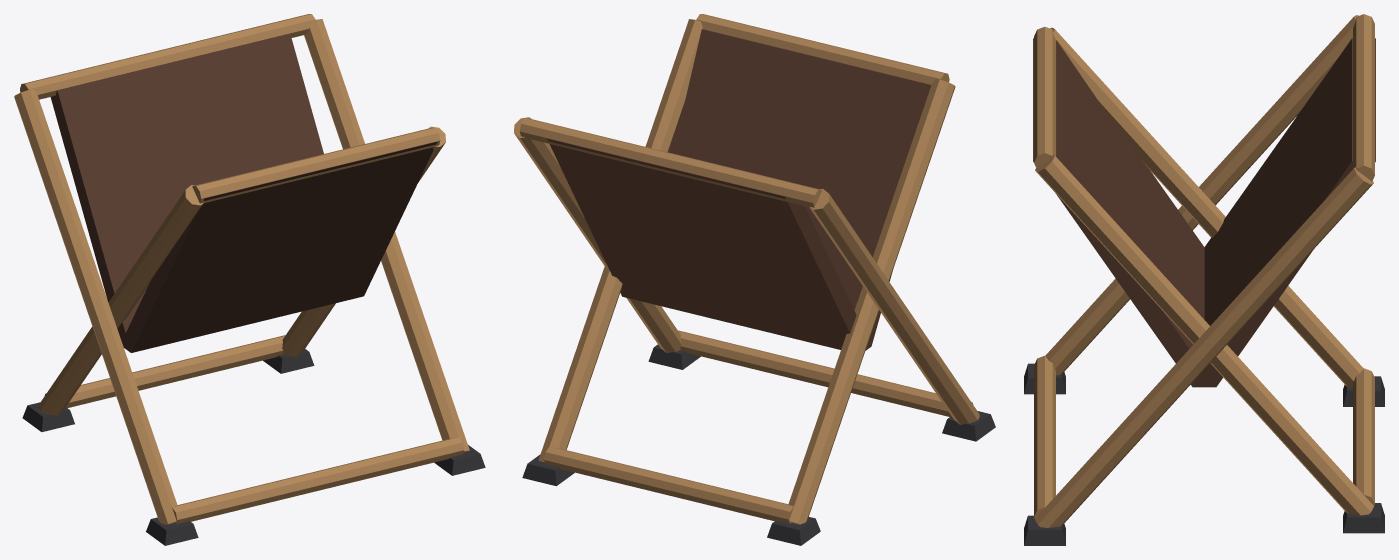
Rendered from FN_Rack_Magazine.fbx.
The picture shows the model from 3 angles, left to right: view 1: azimuth 30°, elevation 25°; view 2: azimuth 150°, elevation 25°; view 3: azimuth 270°, elevation 25°; orthographic projection. The views are drawn at different scales.
Visible parts, largest first — view 1: FN_Rack_Magazine; view 2: FN_Rack_Magazine; view 3: FN_Rack_Magazine.
Part boxes in pixels (bbox=[...]): FN_Rack_Magazine: bbox=[14, 14, 485, 545]; FN_Rack_Magazine: bbox=[514, 14, 995, 545]; FN_Rack_Magazine: bbox=[1024, 14, 1384, 545].
Bounding box in the file's own units: 40.2 × 41.1 × 36.2.
1 material, 1 textured.
